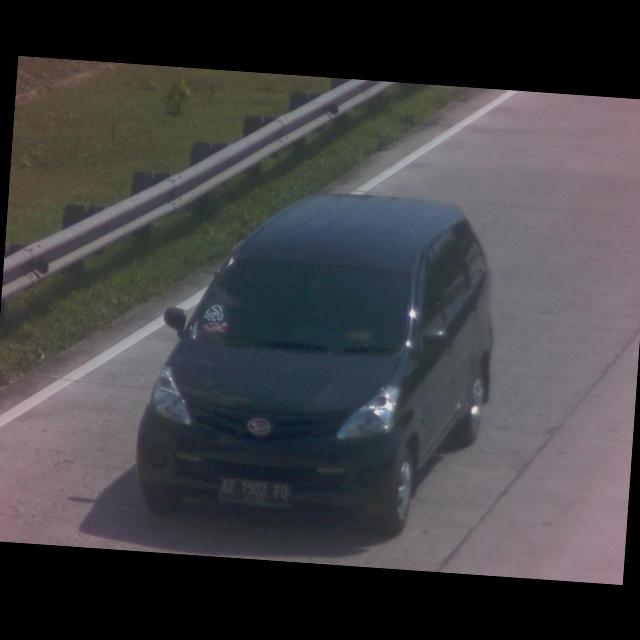plate: (217, 478, 291, 508)
